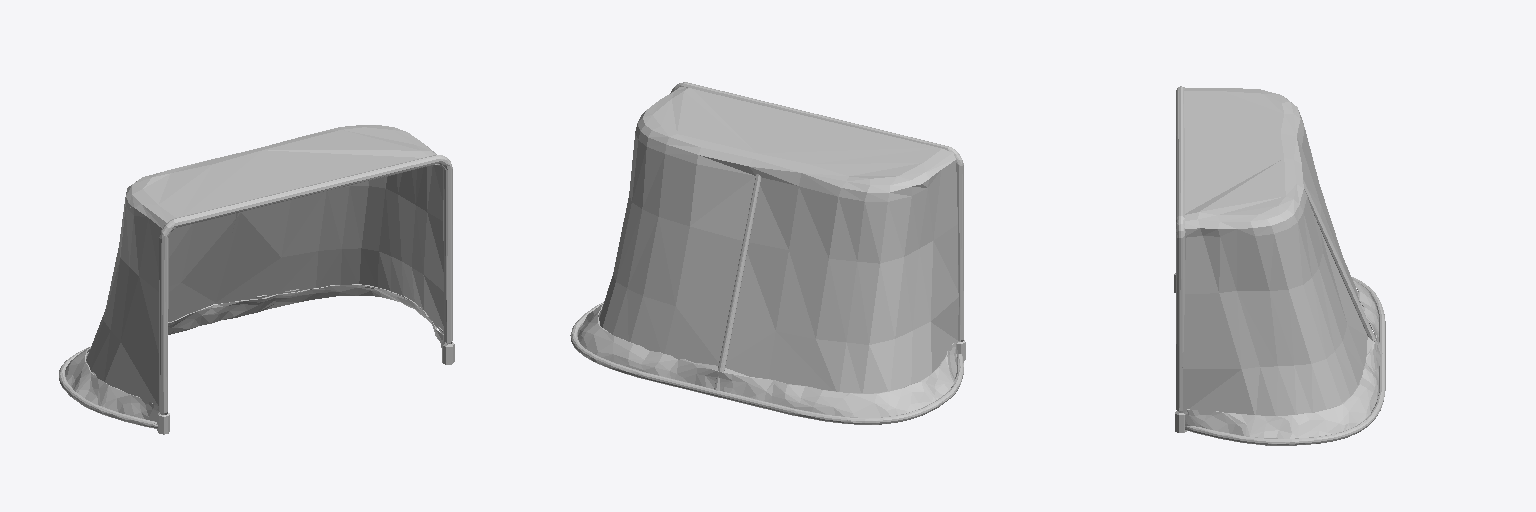
The model's file is Goal.obj.
3 renders of one model, left to right at view 1: azimuth 30°, elevation 25°; view 2: azimuth 150°, elevation 25°; view 3: azimuth 270°, elevation 25°, orthographic.
Parts seen in each view (by area): view 1: Cube; view 2: Cube; view 3: Cube.
Part boxes in pixels (left/top/right/bottom): Cube: left=59, top=125, right=454, bottom=434; Cube: left=570, top=82, right=965, bottom=424; Cube: left=1174, top=86, right=1385, bottom=445.
Bounding box in the file's own units: 67.34 × 37.66 × 34.32.